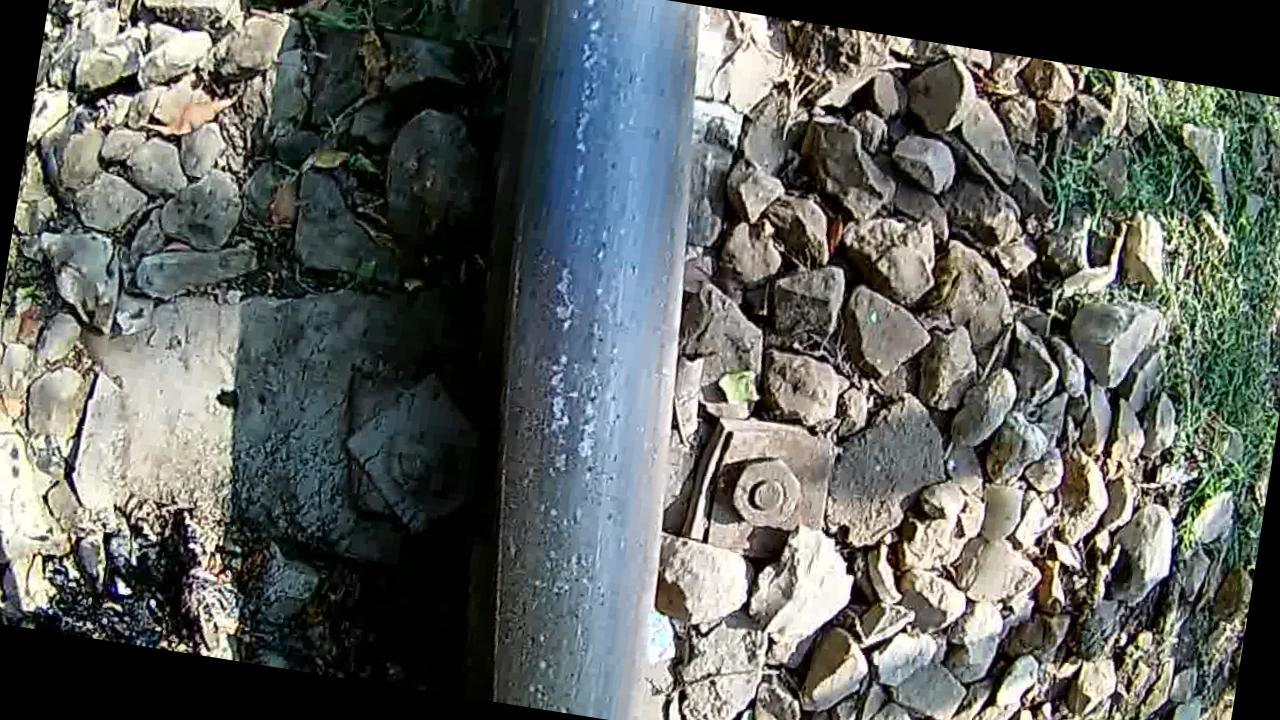clip_missing: (431, 0, 726, 720)
